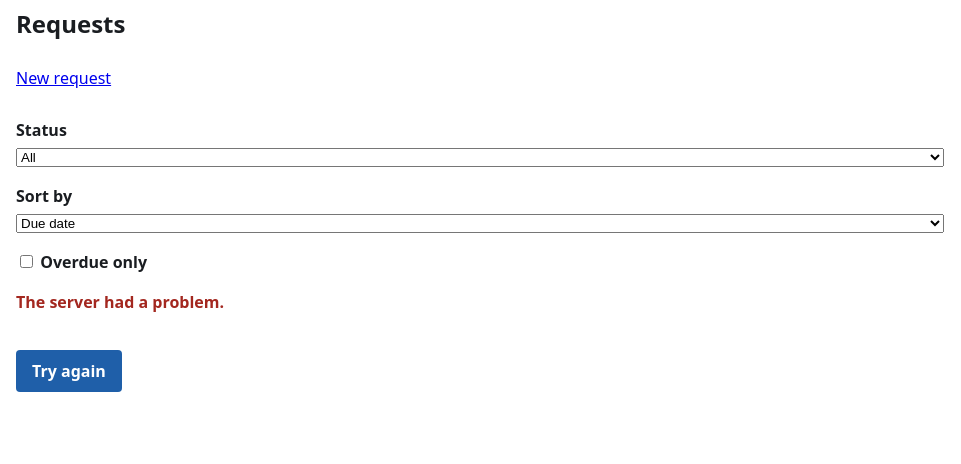
it: RequestListPage › shows the server message on failure and retries on request
Expected: the message shows "The server had a problem.", [16,291,224,313]
Expected: the message does not show "500", [16,291,224,392]
Click the button "Try again". click: [69, 371]
box: [16,350,122,392]
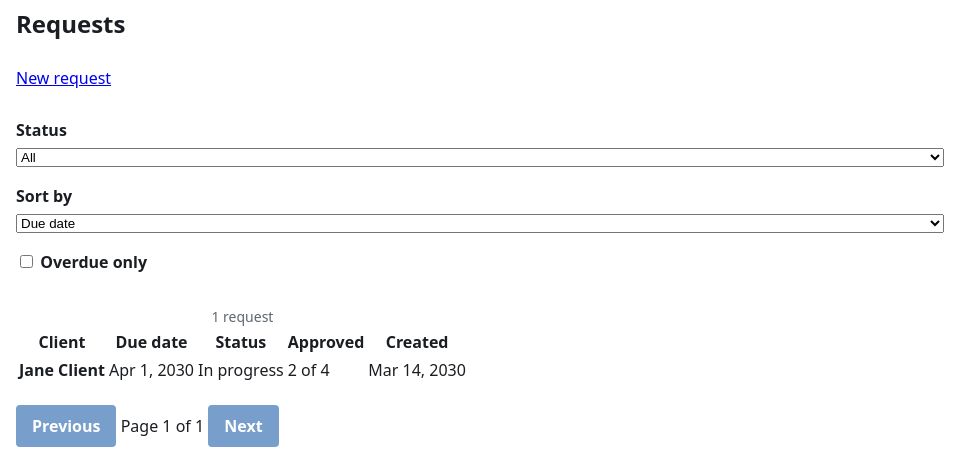
Now the column heading "Jane Client" is shown, box [18,357,106,383]
